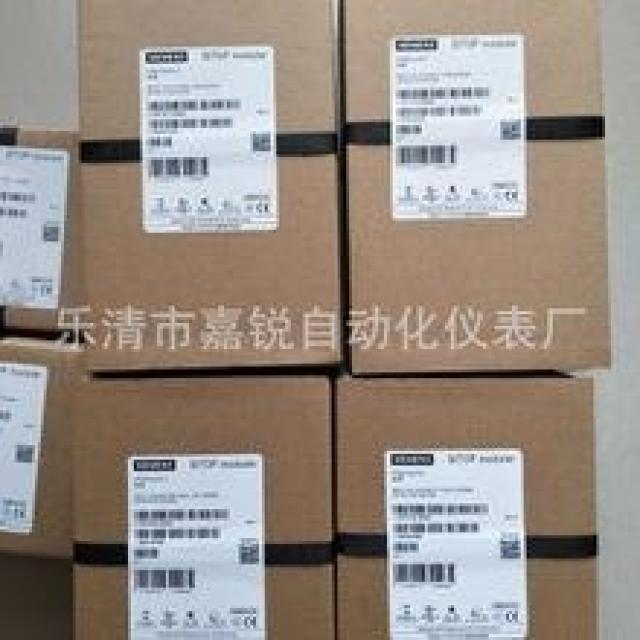box: (336, 2, 610, 379), (76, 1, 345, 378), (332, 369, 596, 637), (73, 375, 330, 637), (0, 128, 90, 349), (0, 343, 86, 560)
